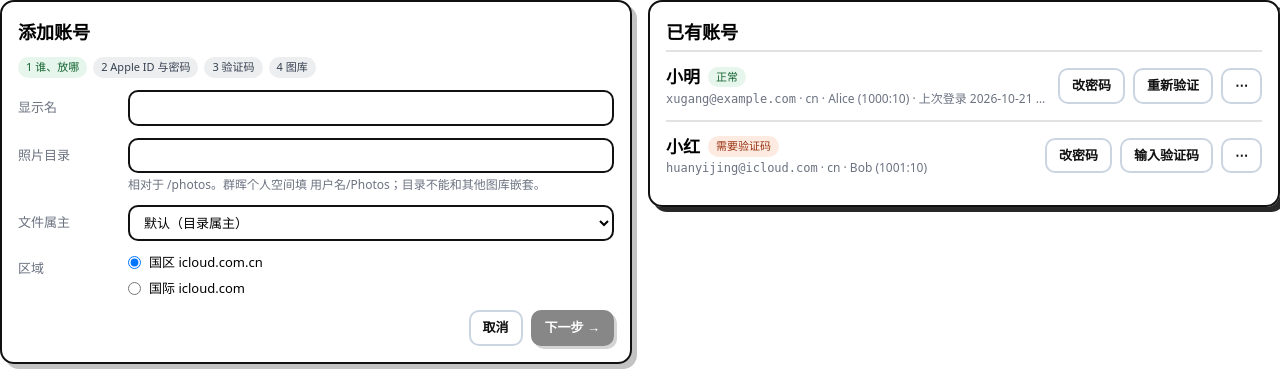
Scenario: Accounts page › 重新验证 is disabled while /auth is pending and opens the code panel once the account awaits a code
Step 1. Click the button "重新验证" → (1173,86), box [1133, 68, 1213, 104]
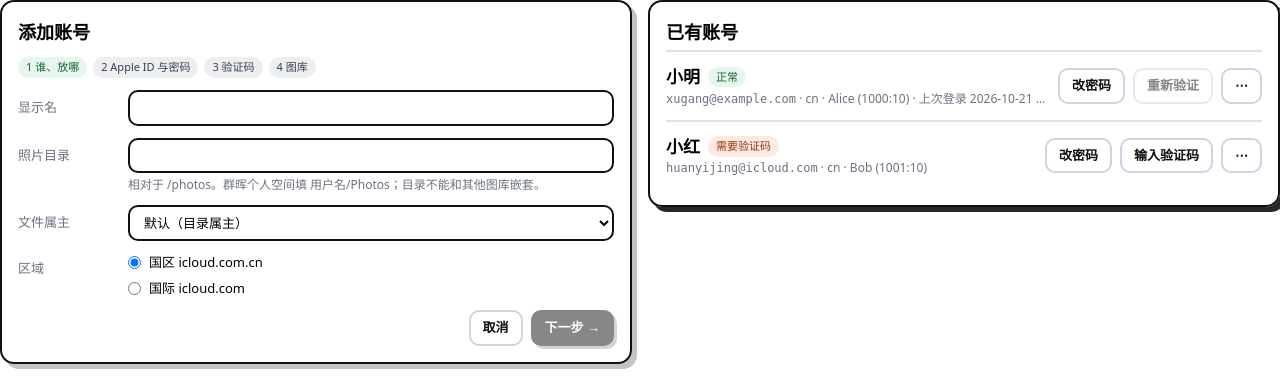
Expected: the button "重新验证" is disabled
Step 2. Click the button "重新验证" → (1173,86), box [1133, 68, 1213, 104]
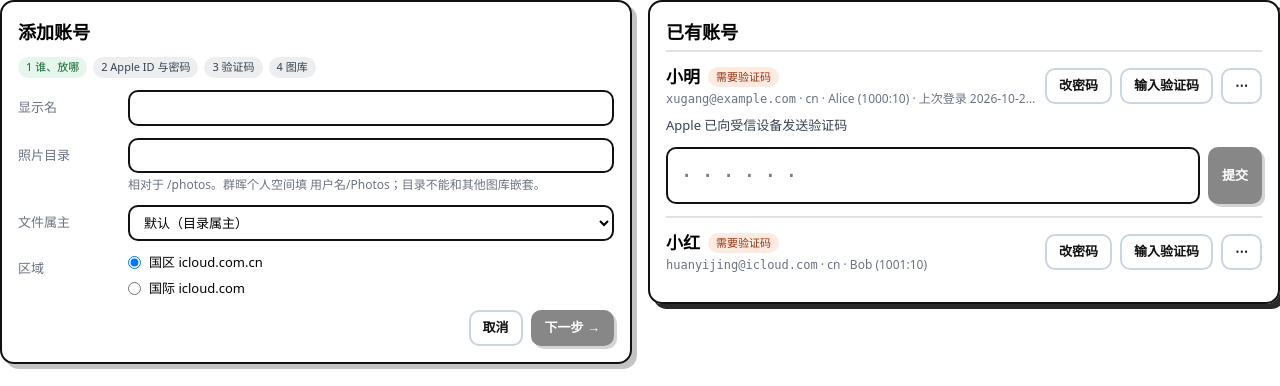
Expected: the field named "验证码" is shown, [666, 147, 1200, 204]
